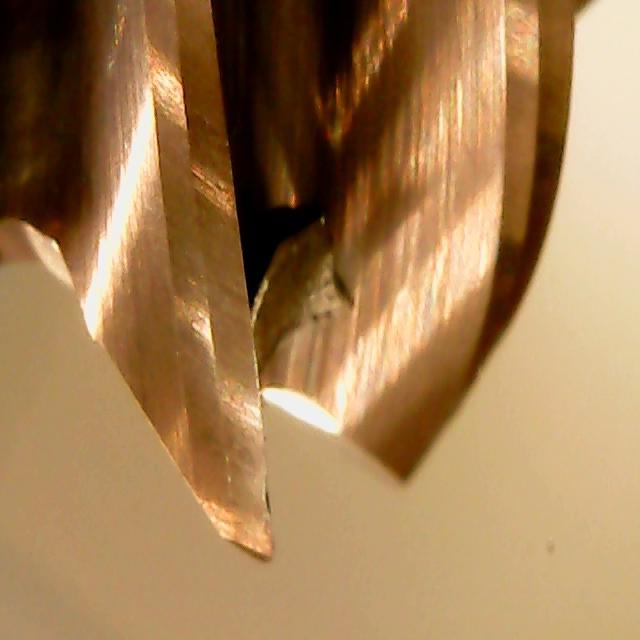Tool-wear-class-1: (195, 376, 291, 578)
